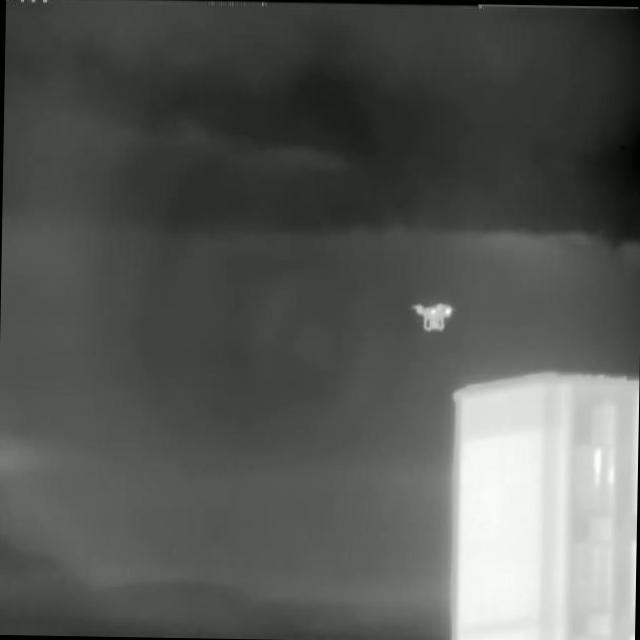DRONE: (409, 299, 457, 334)
